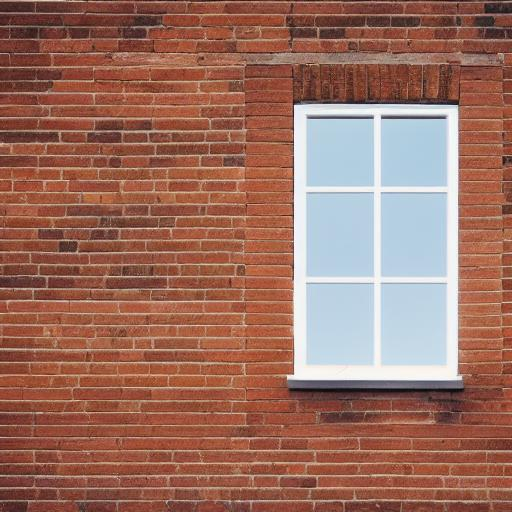Window: (247, 60, 506, 424)
